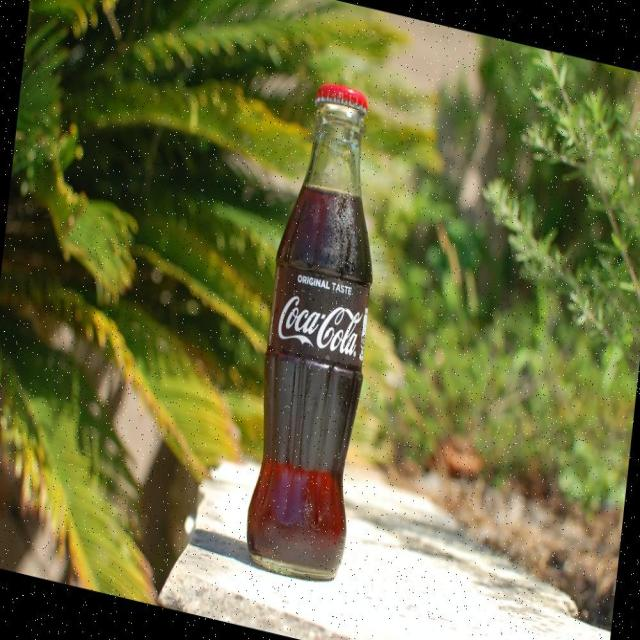coca-cola: (231, 61, 408, 596)
